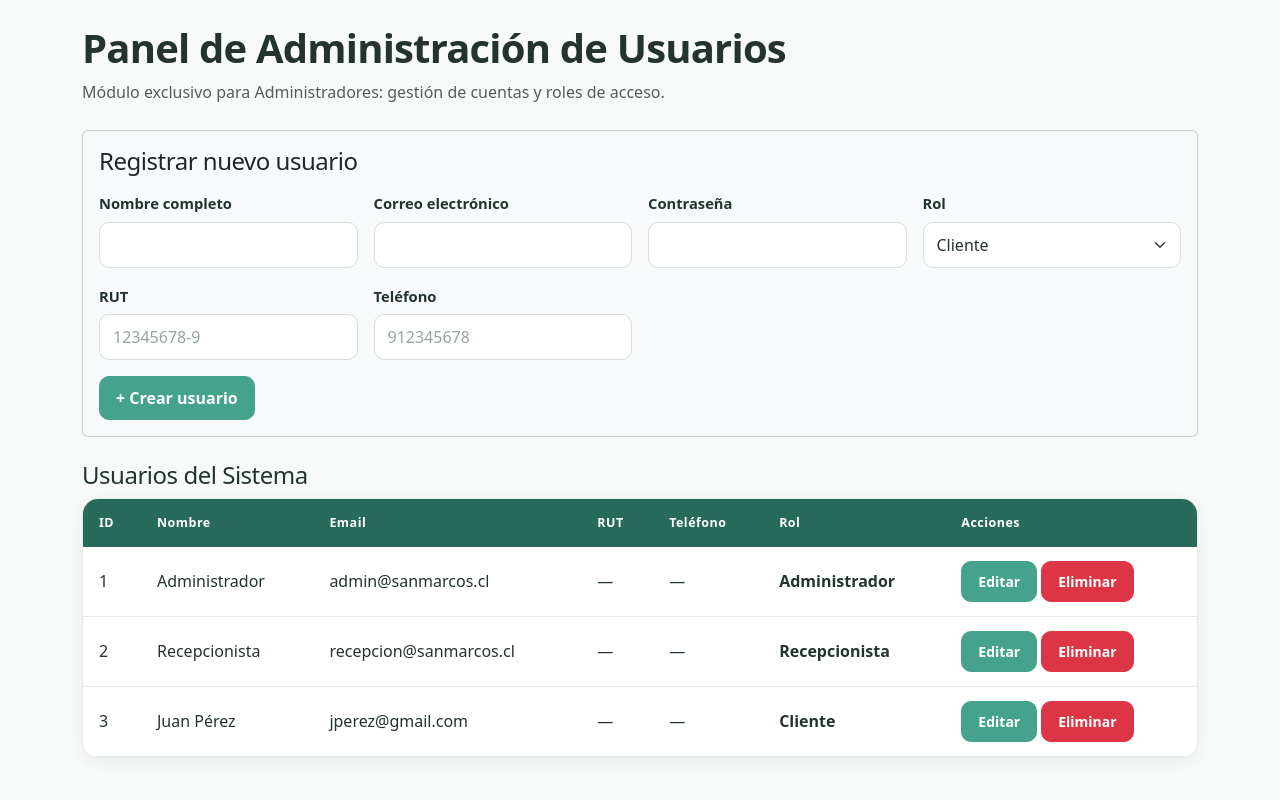
Test: UsuariosPage › rechaza un correo que ya existe en la lista
Expected: the text "Juan Pérez" is shown, top-left (141, 687), bottom-right (313, 757)
Type "Otro Admin" into the field labelled "Nombre completo" at [228, 245], box top-left (99, 222), bottom-right (358, 268)
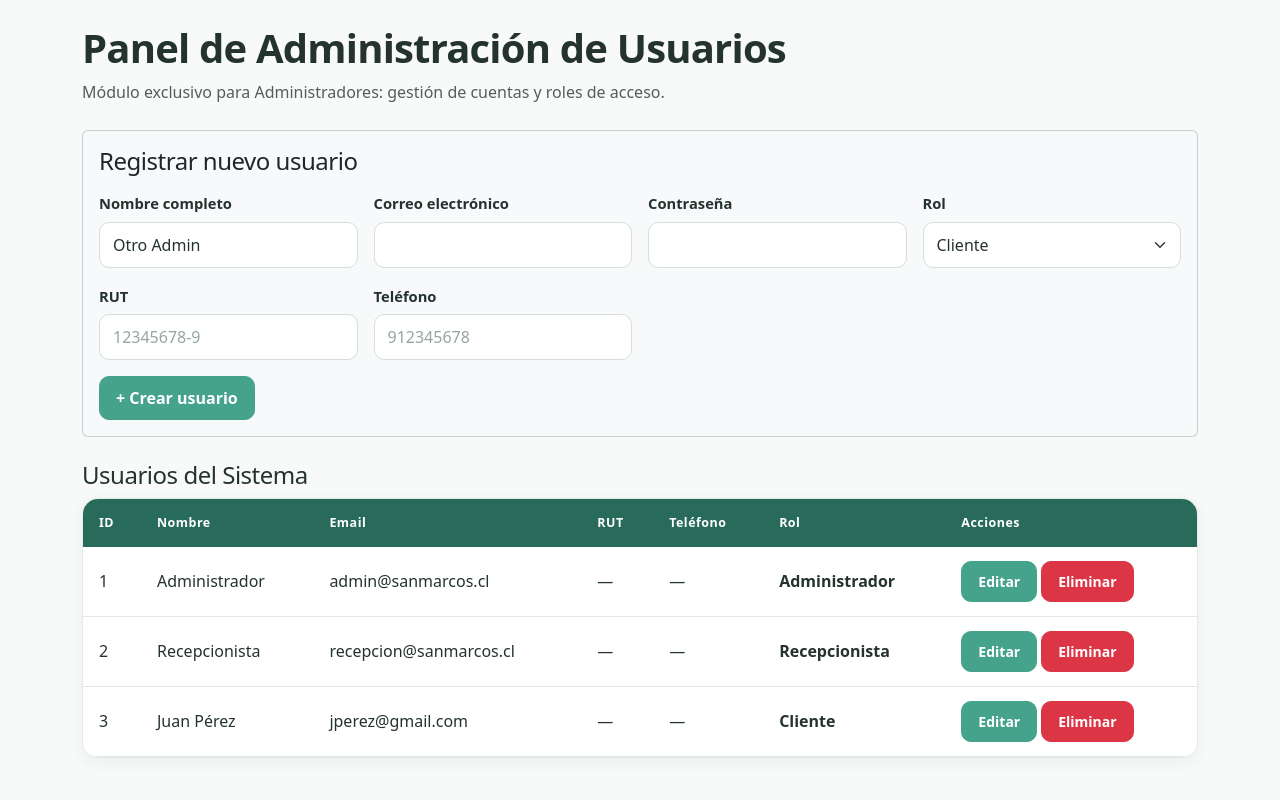
Type "ADMIN@sanmarcos.cl" into the field labelled "Correo electrónico" at [503, 245], box top-left (374, 222), bottom-right (632, 268)
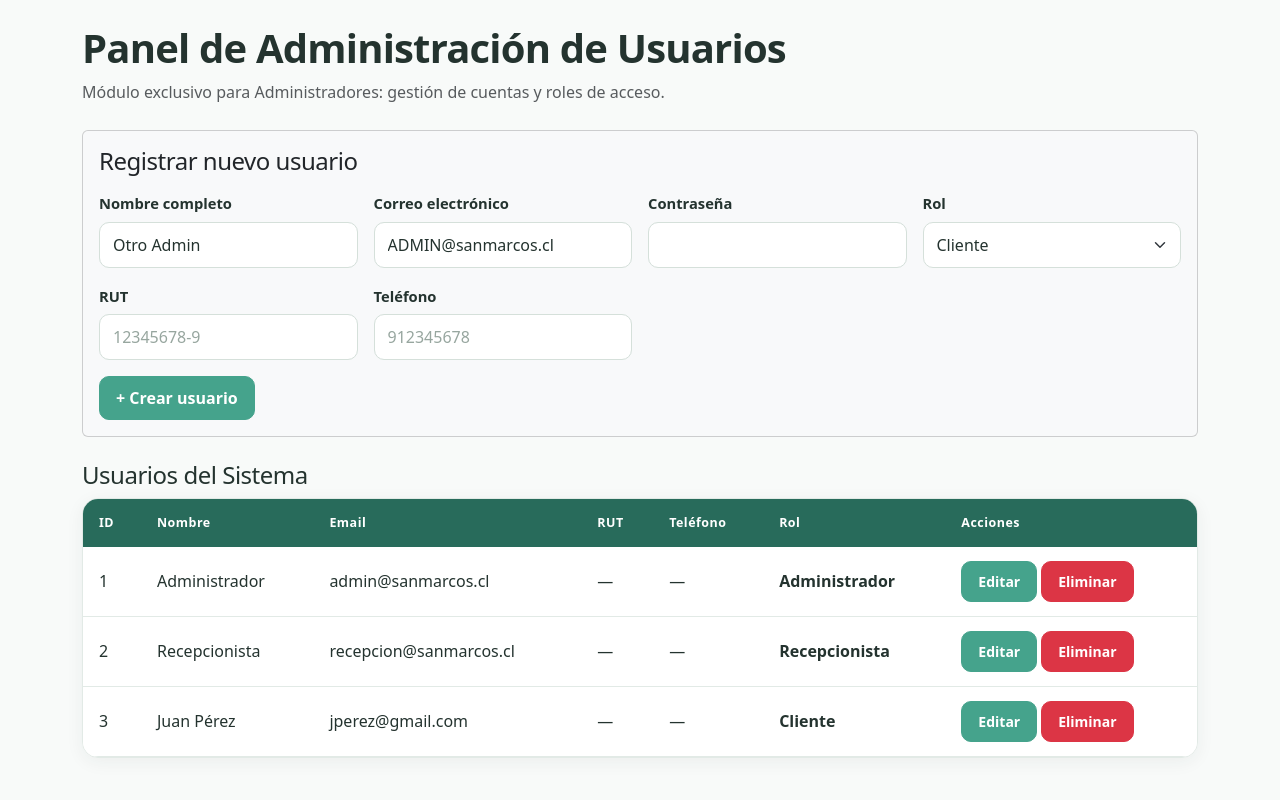
Type "1234" into the password field labelled "Contraseña" at [777, 245], box top-left (648, 222), bottom-right (906, 268)
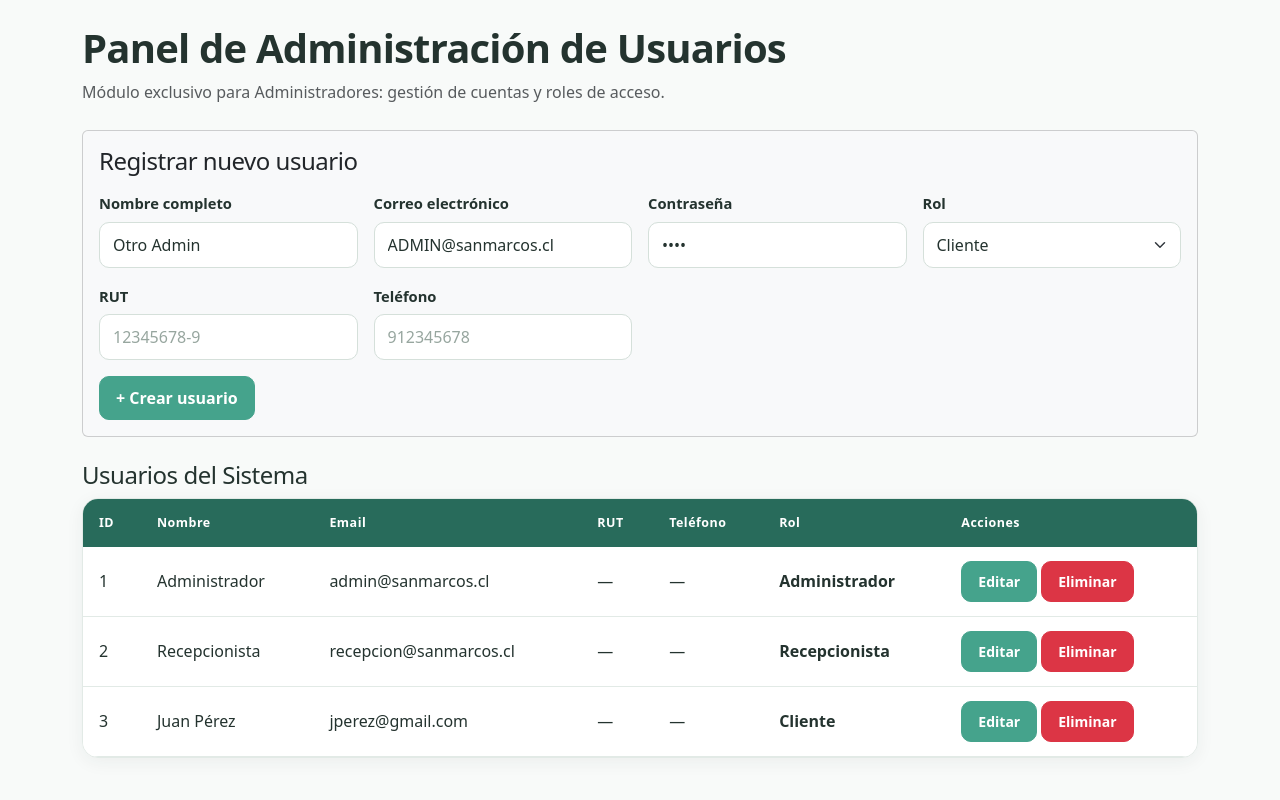
Click the button "+ Crear usuario" at [177, 398], box top-left (99, 376), bottom-right (255, 420)
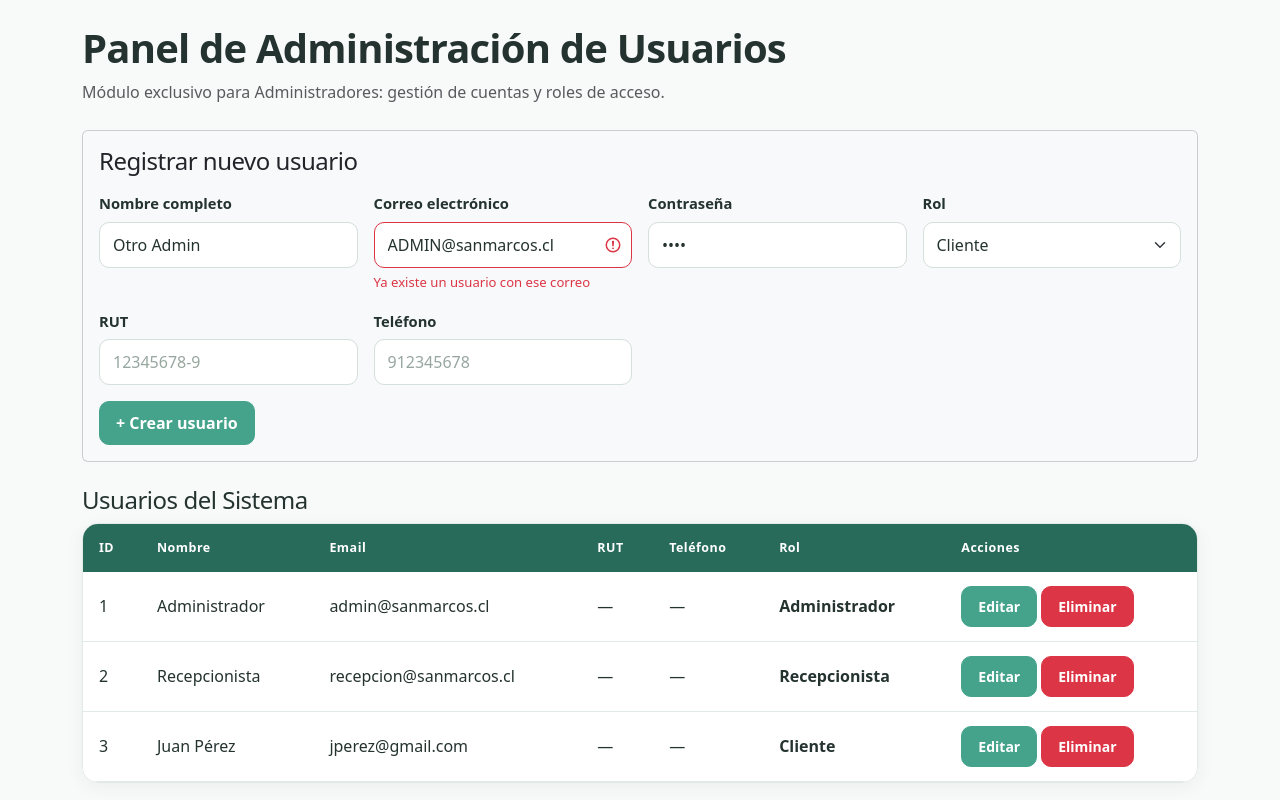
Expected: the text "Ya existe un usuario con ese correo" is shown, top-left (374, 273), bottom-right (590, 291)
